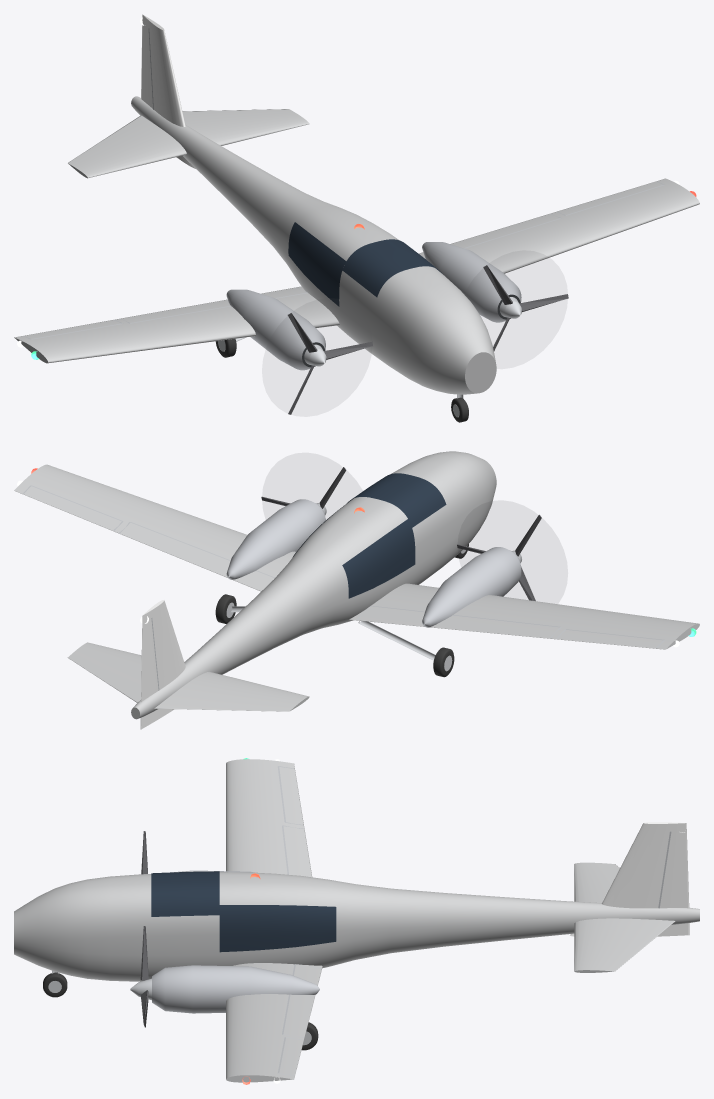
3 renders of one model, top to bottom at view 1: azimuth 30°, elevation 25°; view 2: azimuth 150°, elevation 25°; view 3: azimuth 270°, elevation 25°, orthographic.
Visible parts, largest first — view 1: airframe, prop (×2), gear; view 2: airframe, gear, prop; view 3: airframe, gear, prop.
Part boxes in pixels (x1,y1,x2,y2): airframe: [14, 14, 699, 394]; prop (×2): [287, 265, 568, 414]; gear: [215, 337, 468, 422]; airframe: [14, 451, 699, 729]; gear: [215, 544, 468, 677]; prop: [457, 514, 541, 600]; airframe: [14, 758, 699, 1084]; gear: [43, 970, 318, 1050]; prop: [140, 926, 148, 1027].
Size of the model in its own units: 12.32 by 3.15 by 11.1.
